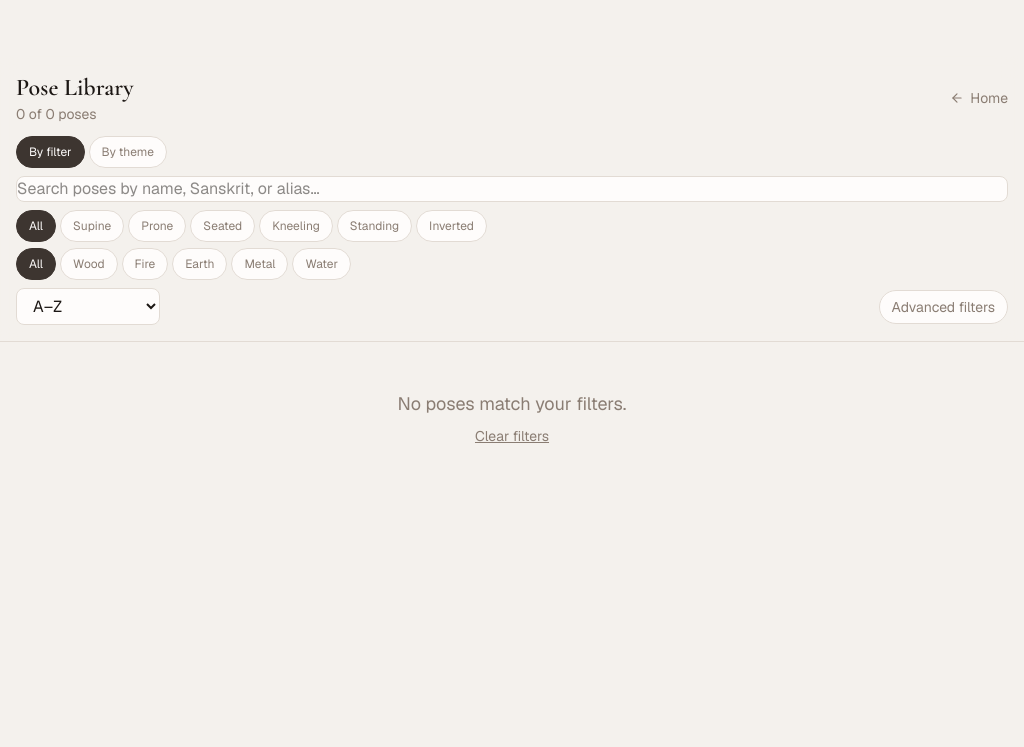
multi-select chip groups (FR-020, FR-021, SC-008) › marks every multi-select chip with a non-colour affordance, unlike single-select chips
What coordinates should you click on to do the following:
click the button "Advanced filters"
I would click on:
 (943, 306)
Its box is 878,290 -> 1008,324.
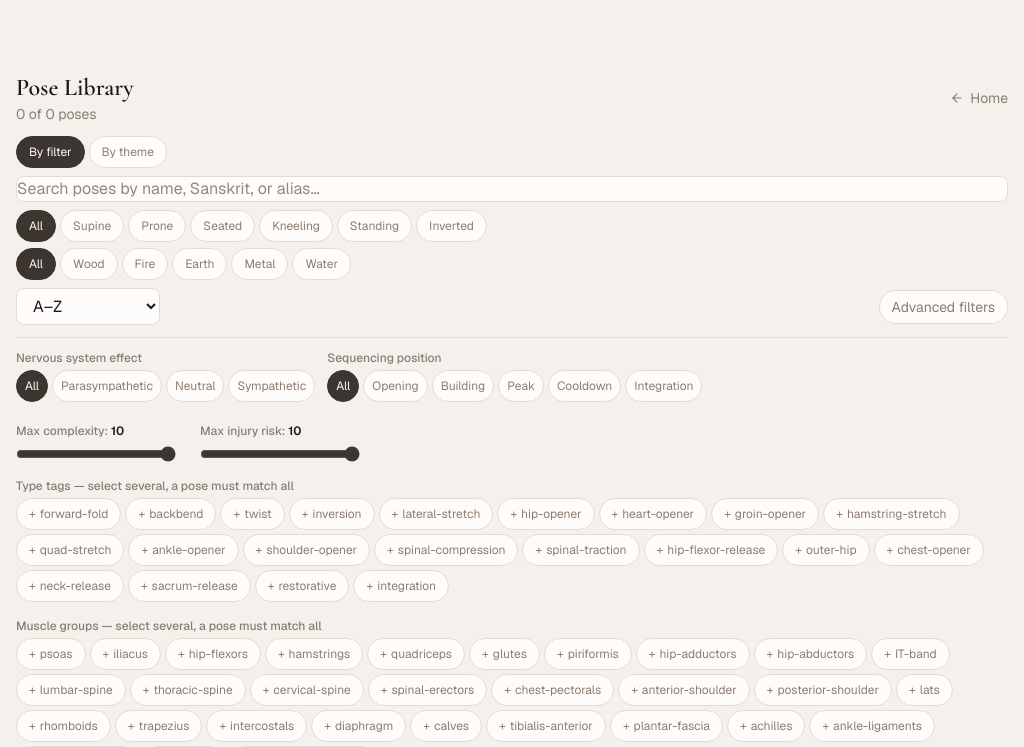
Result: the button "+ forward-fold" is shown at 16,498 -> 122,530
Result: the 2nd text with test id "multi-chip-mark" is shown at 138,506 -> 145,522
Result: the 3rd text with test id "multi-chip-mark" is shown at 233,506 -> 240,522
